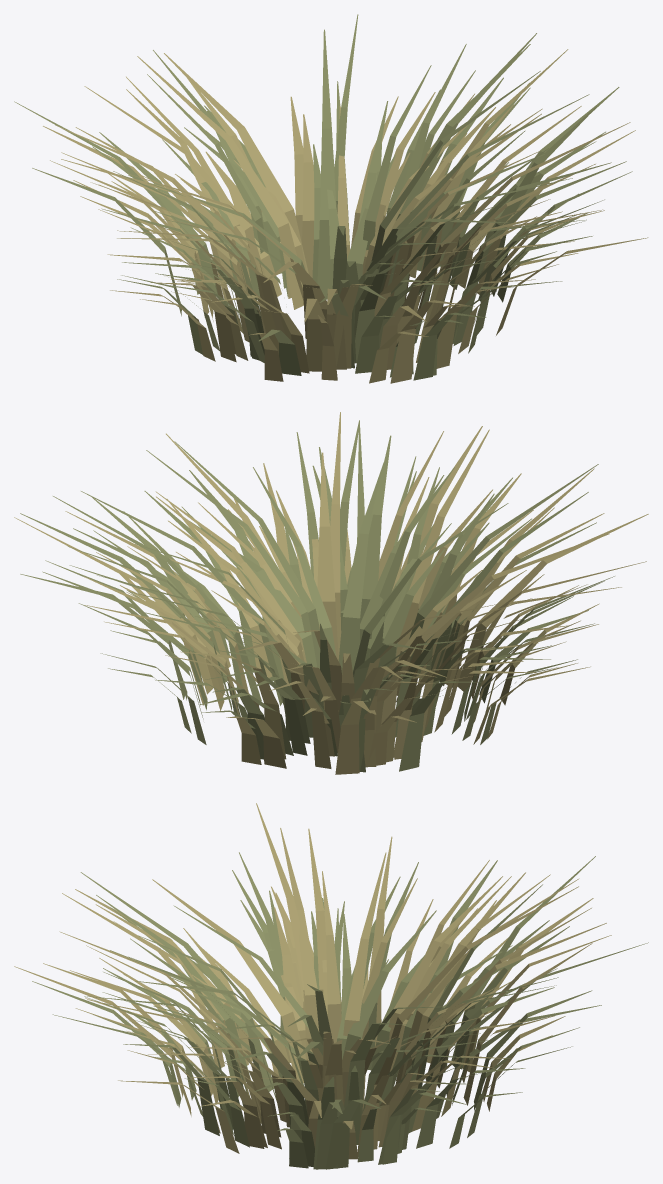
Rendered from alpine_tussock_v3.glb.
3 renders of one model, top to bottom at view 1: azimuth 30°, elevation 25°; view 2: azimuth 150°, elevation 25°; view 3: azimuth 270°, elevation 25°, orthographic. The views are drawn at different scales.
Parts seen in each view (by area): view 1: alpine_tussock_v3; view 2: alpine_tussock_v3; view 3: alpine_tussock_v3.
Part boxes in pixels (x1,y1,x2,y2): alpine_tussock_v3: [14, 14, 648, 383]; alpine_tussock_v3: [14, 412, 648, 774]; alpine_tussock_v3: [14, 803, 648, 1169].
Bounding box in the file's own units: 0.9461 × 0.3401 × 0.9582.
